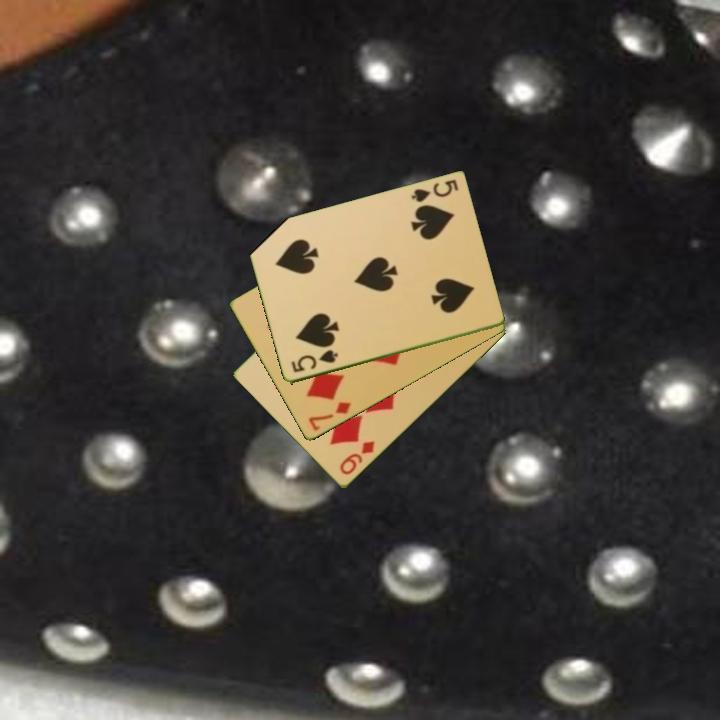5s: (287, 346, 341, 376), (407, 176, 461, 206)
7d: (305, 398, 354, 434)
9d: (336, 437, 378, 478)
